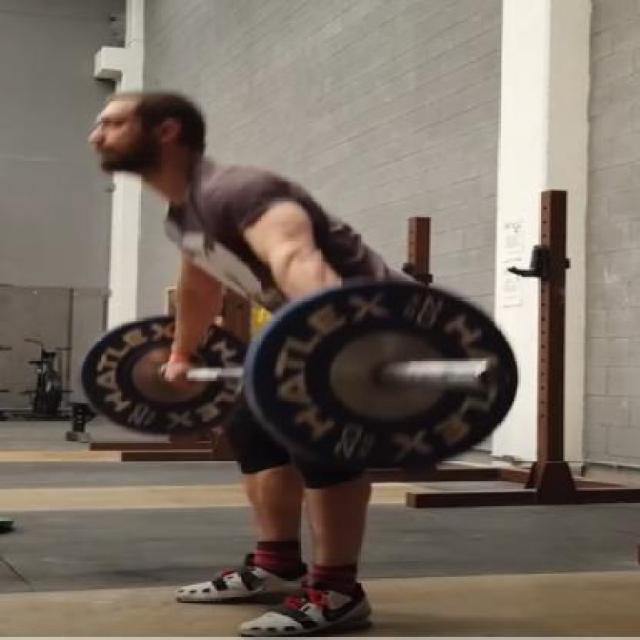barbell: (233, 270, 538, 484)
